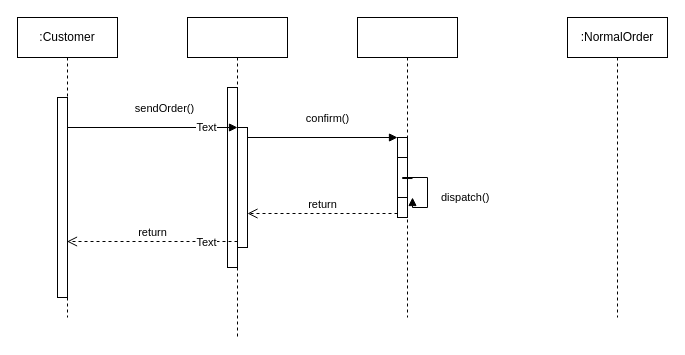
Image size: 685x355. Some labels were removed from this diagram. Each missing label, with the box of its shape:
:Order: (186, 16, 288, 338)
:SpecialOrder: (356, 16, 458, 318)
